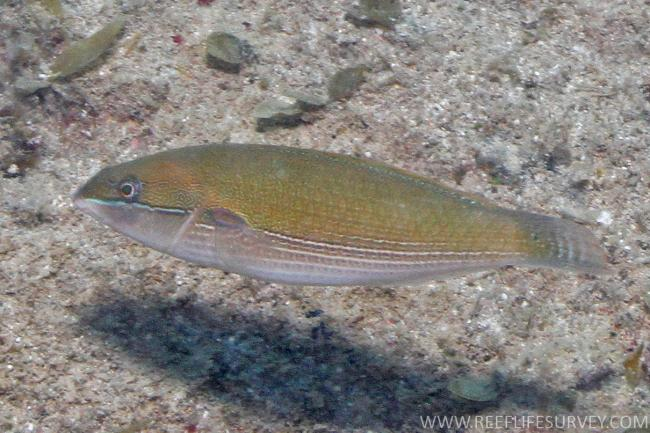fish: (72, 142, 609, 289)
